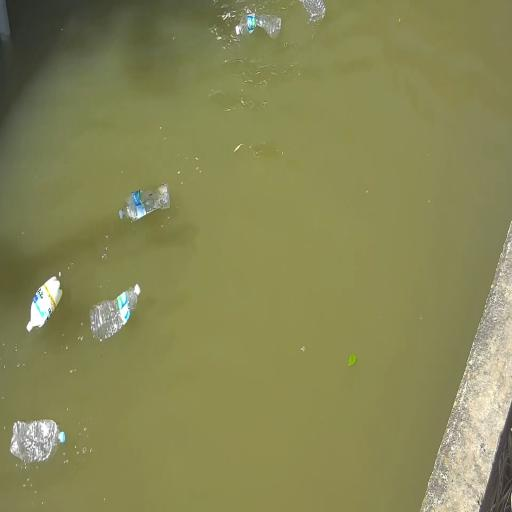plastic: (90, 284, 140, 340), (11, 420, 65, 463), (26, 275, 63, 332), (119, 184, 170, 221), (235, 13, 281, 38)
